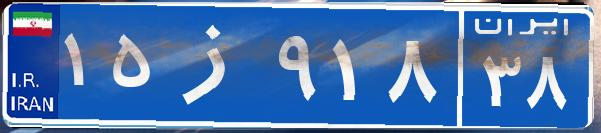1: (330, 28, 385, 110), (57, 26, 110, 107)
3: (475, 38, 525, 113)
5: (110, 28, 158, 105)
8: (385, 28, 445, 110), (525, 38, 570, 115)
9: (273, 28, 330, 110)
ز: (158, 15, 273, 115)
